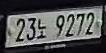2: (14, 17, 26, 43), (65, 12, 75, 38), (86, 10, 96, 36)
3: (26, 15, 37, 42)
7: (75, 12, 86, 36)
9: (55, 13, 65, 40)
노: (36, 17, 48, 40)
